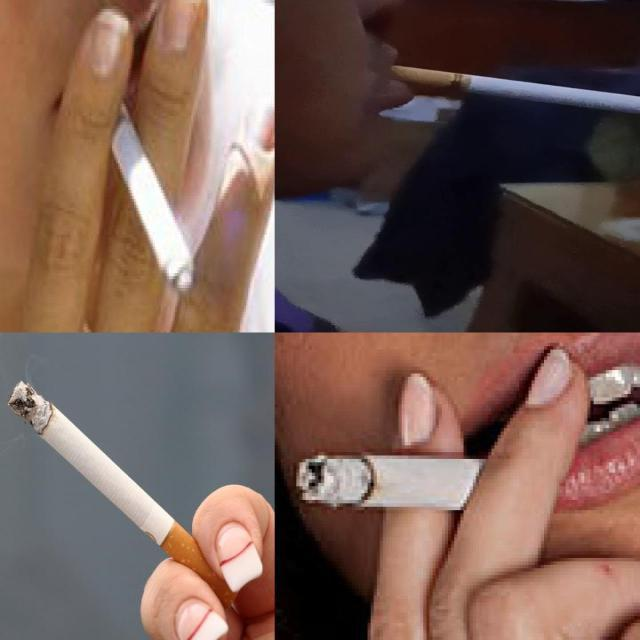smoking: (6, 381, 240, 614), (98, 77, 194, 290), (388, 64, 640, 118), (290, 446, 476, 514)
